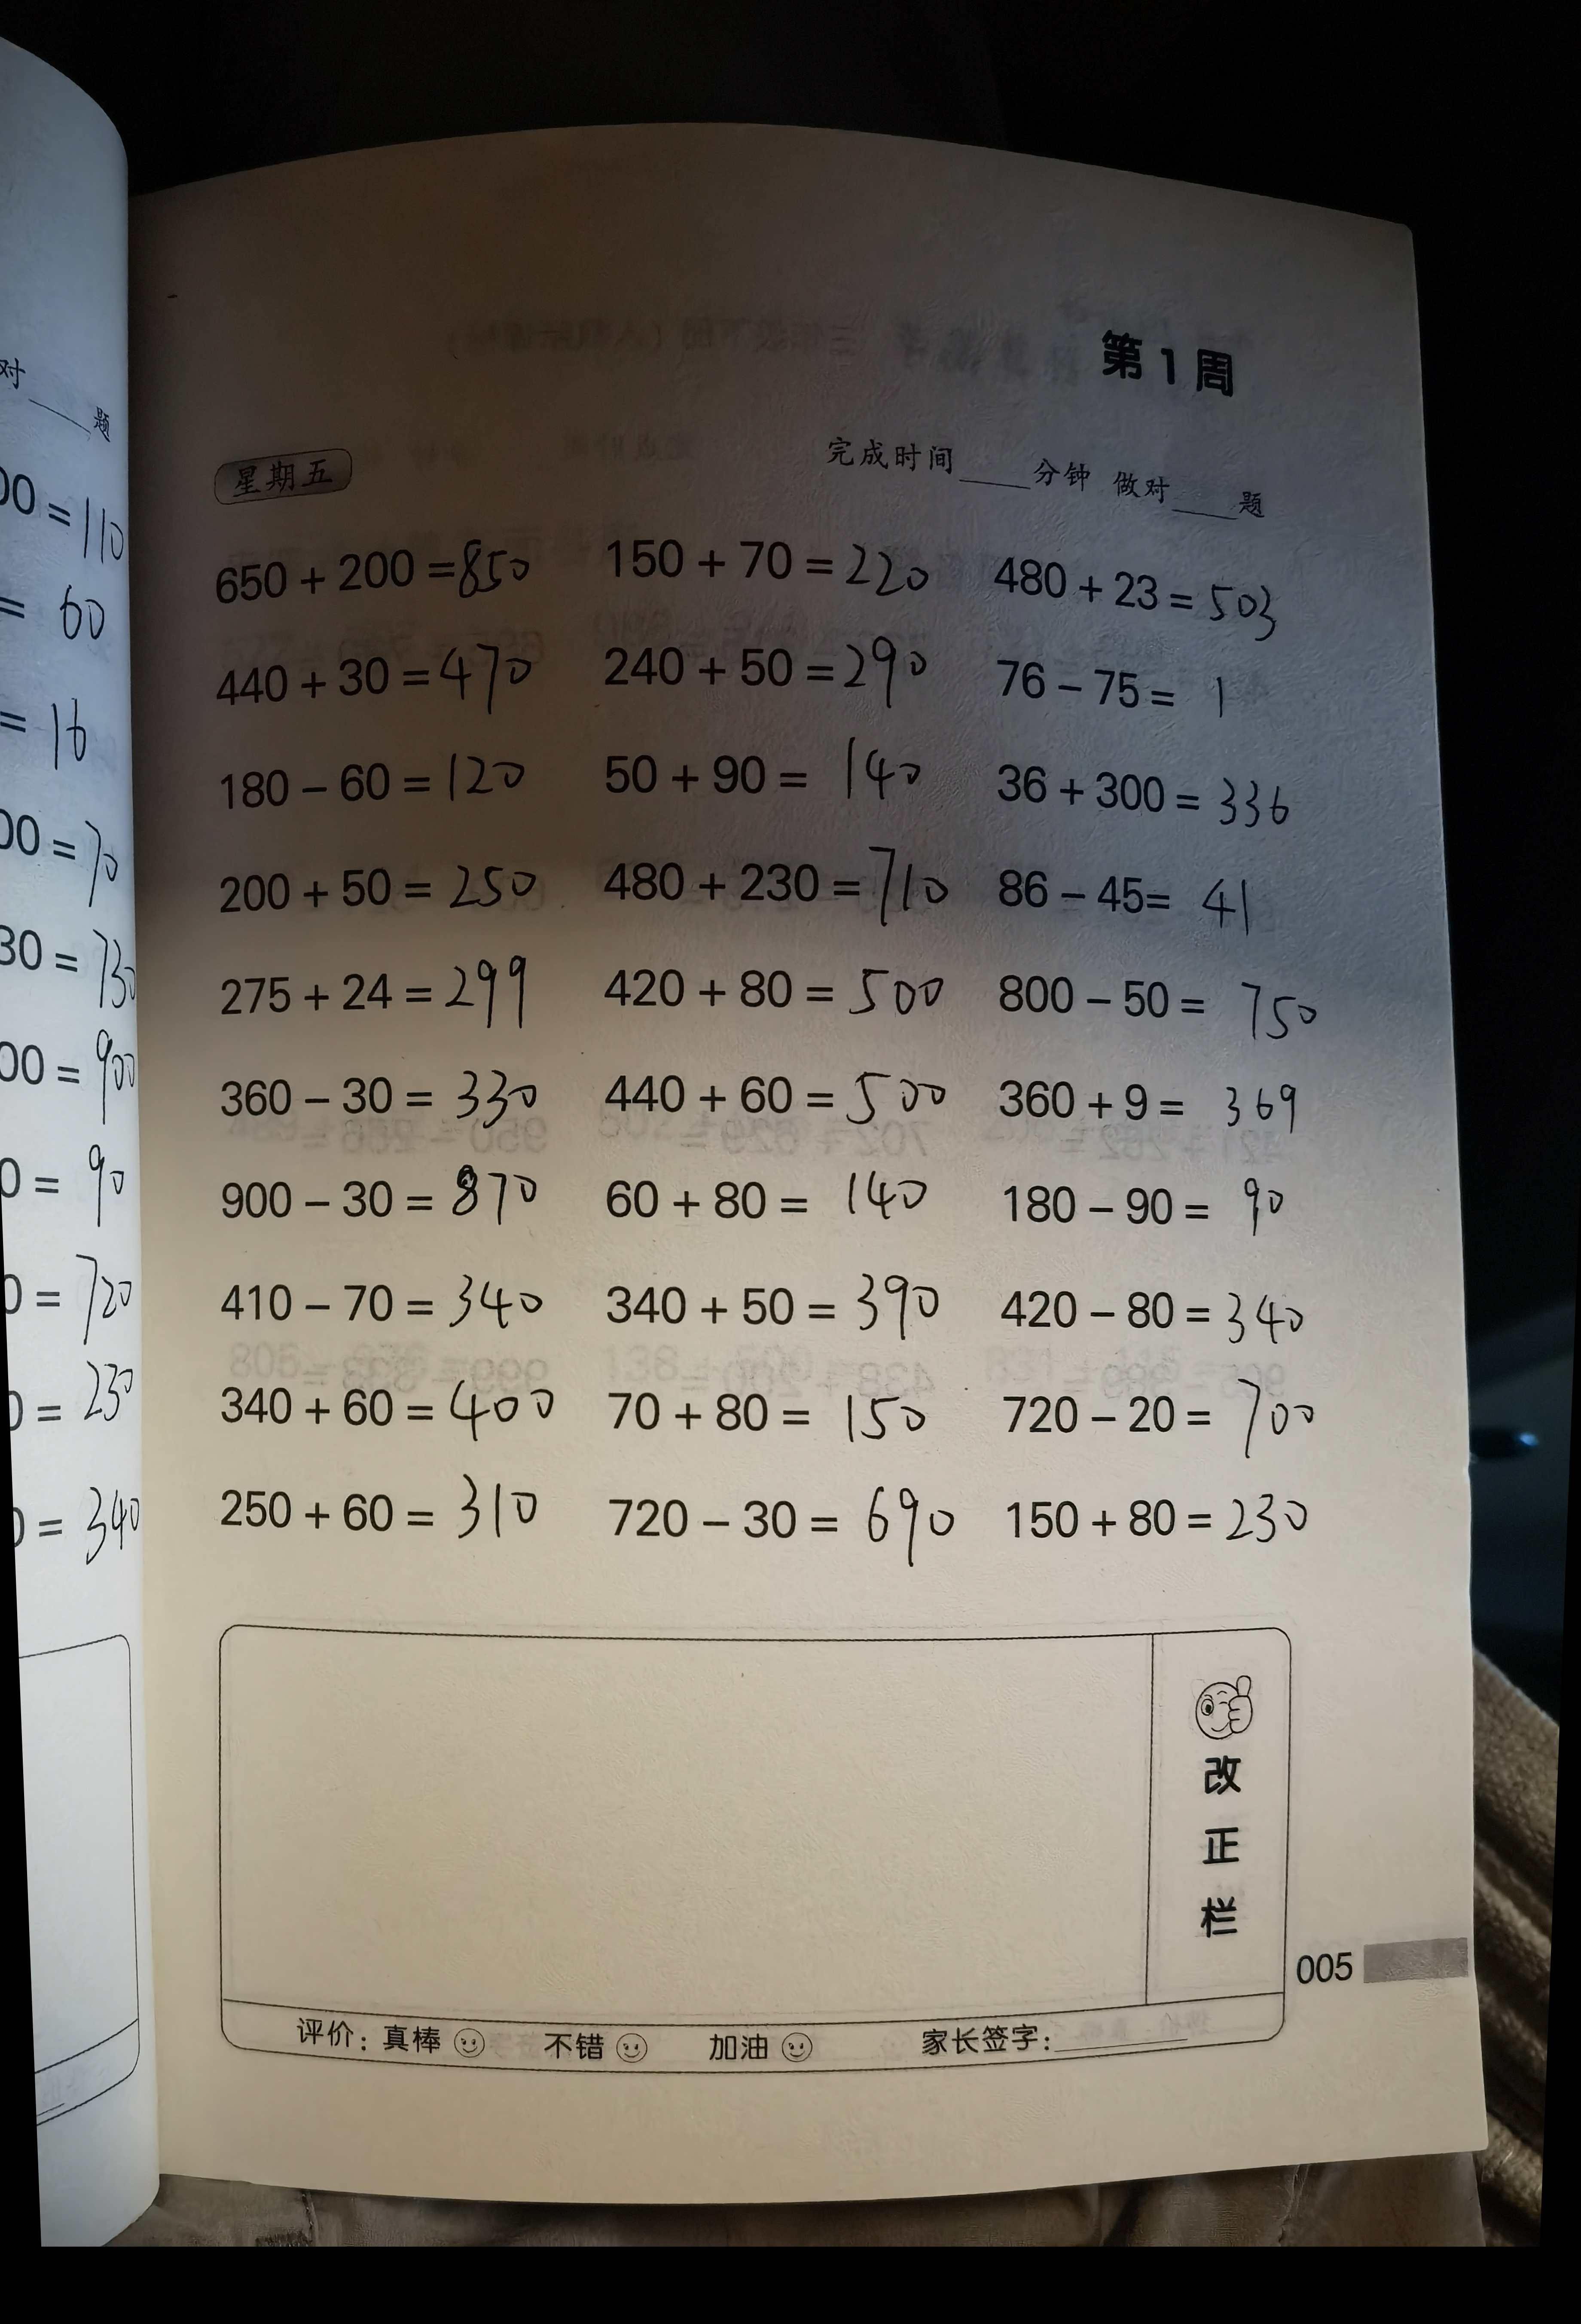equation: (993, 956, 1352, 1061), (602, 506, 958, 611), (210, 1466, 579, 1563), (997, 748, 1320, 856), (976, 1061, 1339, 1156), (997, 1378, 1366, 1470), (986, 549, 1315, 651), (214, 956, 566, 1050), (600, 1488, 981, 1572), (600, 951, 967, 1038), (593, 1269, 939, 1359), (199, 1165, 568, 1244), (603, 1061, 970, 1140), (609, 856, 967, 937), (593, 632, 949, 713), (221, 741, 558, 826), (612, 1376, 949, 1461), (986, 856, 1308, 941), (210, 1378, 581, 1451), (208, 856, 561, 932), (591, 1170, 951, 1244), (199, 531, 543, 607), (999, 1177, 1320, 1258), (203, 1071, 561, 1143), (593, 738, 940, 812), (191, 1278, 563, 1345), (1016, 1493, 1366, 1563), (990, 1288, 1327, 1355), (985, 644, 1274, 718), (210, 641, 549, 701)
